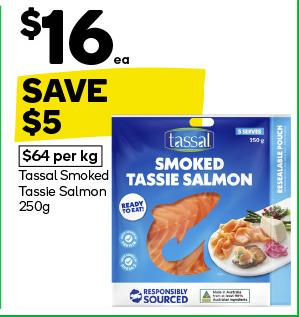description_block: (12, 167, 113, 221)
price_main: (12, 0, 140, 70)
product_image_block: (106, 107, 296, 311)
promo_text_block: (5, 72, 128, 143)
unit_price_block: (11, 145, 106, 168)
